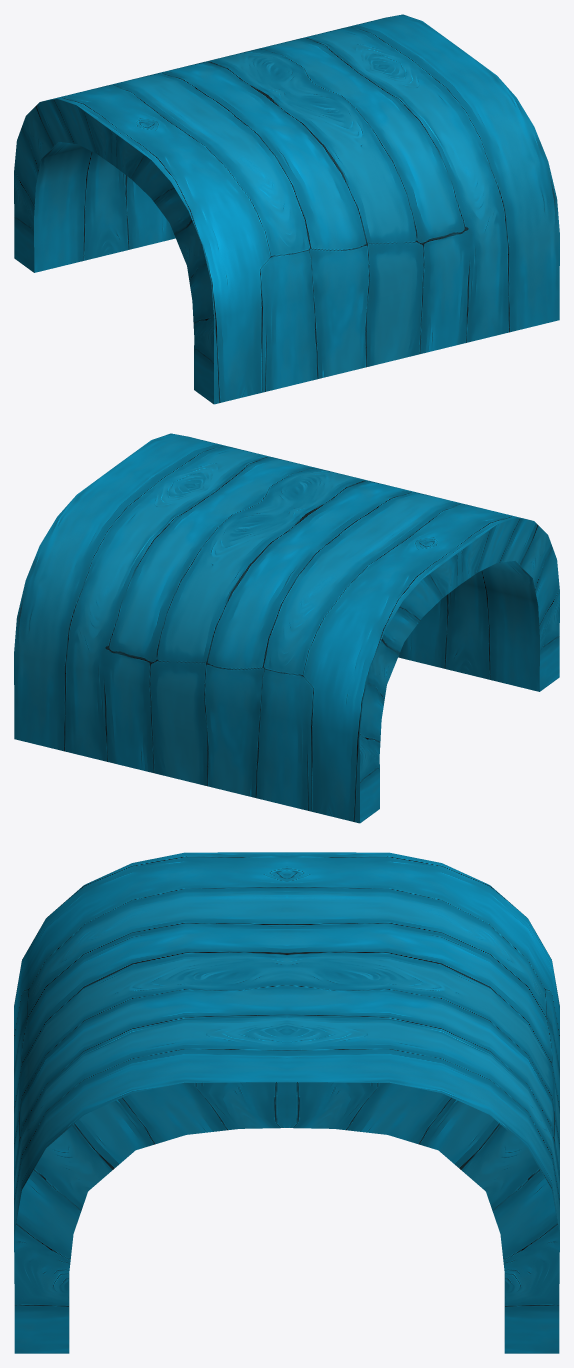
The model's file is M_Tile_Tunnel.fbx.
3 renders of one model, top to bottom at view 1: azimuth 30°, elevation 25°; view 2: azimuth 150°, elevation 25°; view 3: azimuth 270°, elevation 25°, orthographic. The views are drawn at different scales.
Visible parts, largest first — view 1: Tile_Tunnel; view 2: Tile_Tunnel; view 3: Tile_Tunnel.
Part boxes in pixels (<box>): Tile_Tunnel: <box>14,14,559,404</box>; Tile_Tunnel: <box>14,433,559,823</box>; Tile_Tunnel: <box>14,852,559,1353</box>.
Bounding box in the file's own units: 100 × 54.98 × 100.
